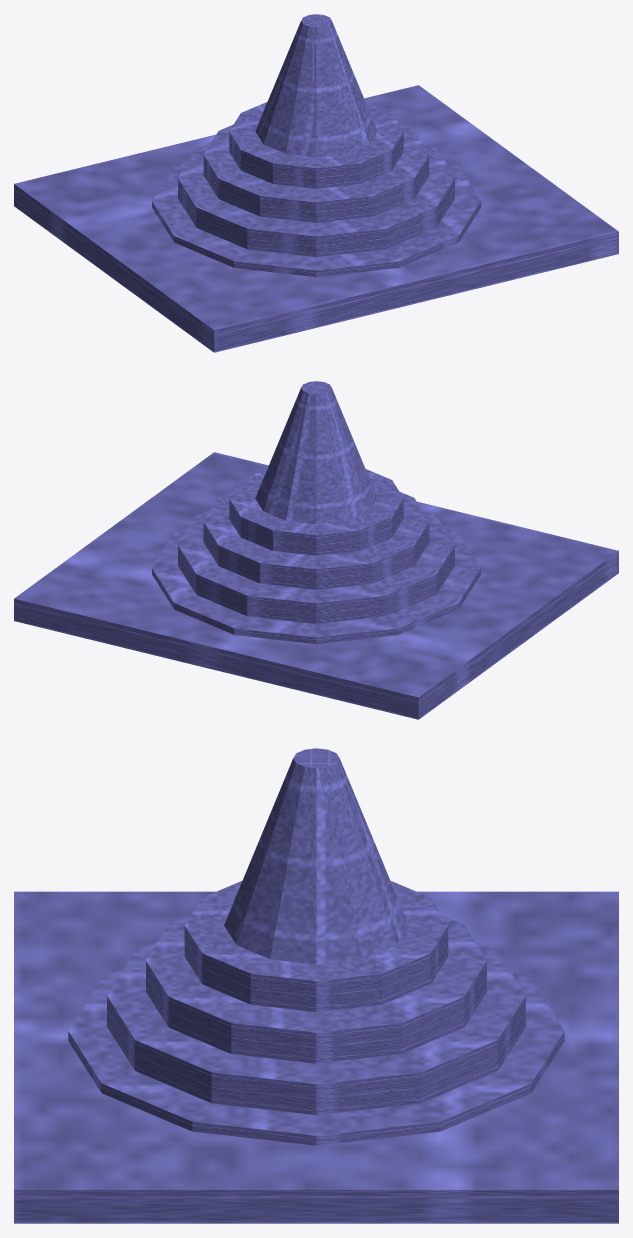
Rendered from meteor_dais_02.glb.
3 renders of one model, top to bottom at view 1: azimuth 30°, elevation 25°; view 2: azimuth 150°, elevation 25°; view 3: azimuth 270°, elevation 25°, orthographic. The views are drawn at different scales.
Visible parts, largest first — view 1: Foundation, MeteorStep.001, Meteor, MeteorStep.002, MeteorStep, MeteorStep.003; view 2: Foundation, MeteorStep.001, Meteor, MeteorStep.002, MeteorStep, MeteorStep.003; view 3: Foundation, MeteorStep.001, Meteor, MeteorStep.002, MeteorStep, MeteorStep.003.
Part boxes in pixels (x1,y1,x2,y2): Foundation: (14, 85, 618, 352); MeteorStep.001: (178, 142, 454, 256); Meteor: (255, 14, 377, 157); MeteorStep.002: (203, 125, 429, 222); MeteorStep: (152, 160, 480, 277); MeteorStep.003: (229, 102, 403, 188); Foundation: (14, 452, 618, 719); MeteorStep.001: (178, 509, 454, 623); Meteor: (255, 381, 377, 524); MeteorStep.002: (203, 492, 429, 589); MeteorStep: (152, 527, 480, 644); MeteorStep.003: (229, 469, 403, 555); Foundation: (14, 891, 618, 1223); MeteorStep.001: (107, 942, 525, 1115); Meteor: (224, 748, 408, 964); MeteorStep.002: (146, 915, 486, 1063); MeteorStep: (68, 969, 564, 1145); MeteorStep.003: (184, 881, 448, 1011).
Size of the model in its own units: 4.55 by 2.25 by 3.9.
1 material, 1 textured.
